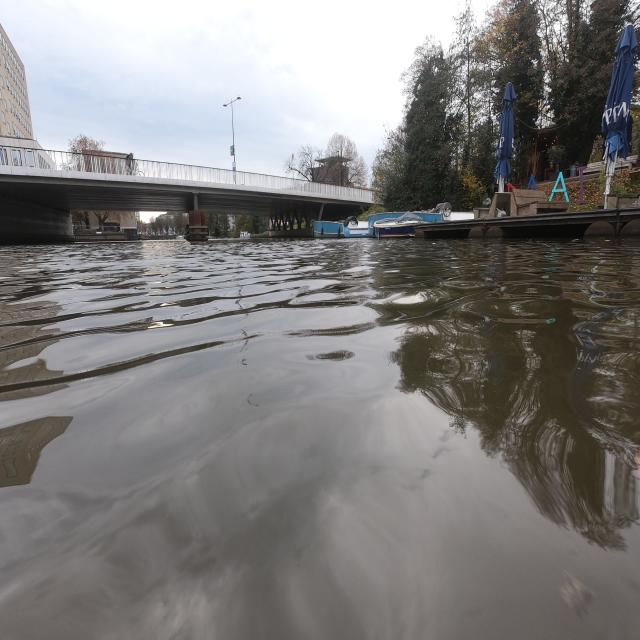boat: (374, 212, 427, 238), (313, 216, 369, 238), (368, 210, 407, 236), (413, 211, 443, 222), (452, 213, 467, 220), (239, 231, 251, 239)
dock: (416, 208, 640, 240)
sky: (0, 6, 462, 174)
tree: (370, 14, 502, 210)
wall: (0, 196, 74, 244), (269, 223, 312, 238)
water: (8, 240, 636, 640)
